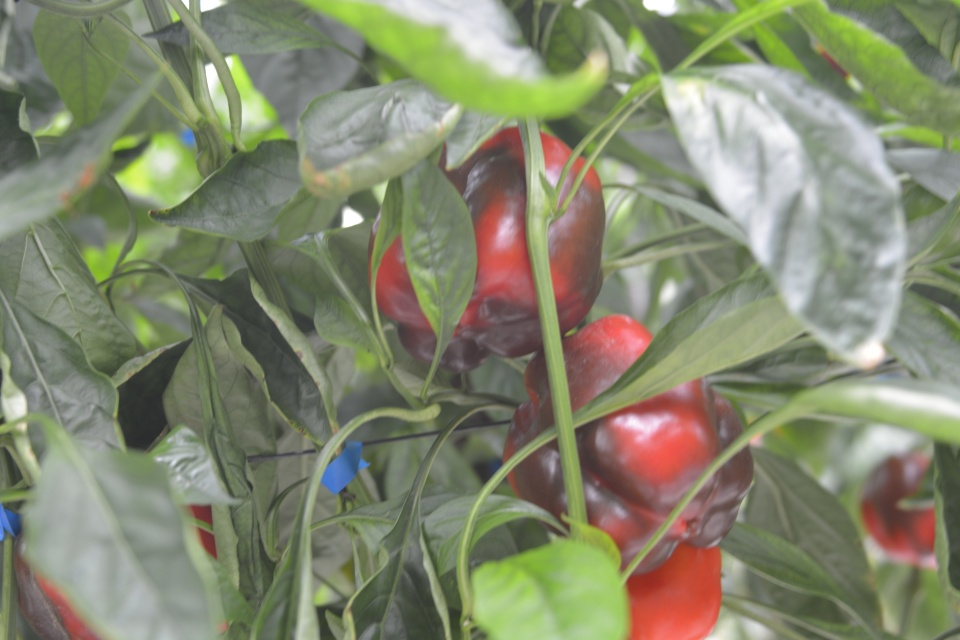fruit: (500, 310, 756, 576), (367, 122, 607, 374), (12, 504, 231, 640), (619, 534, 725, 639), (860, 446, 940, 560)
